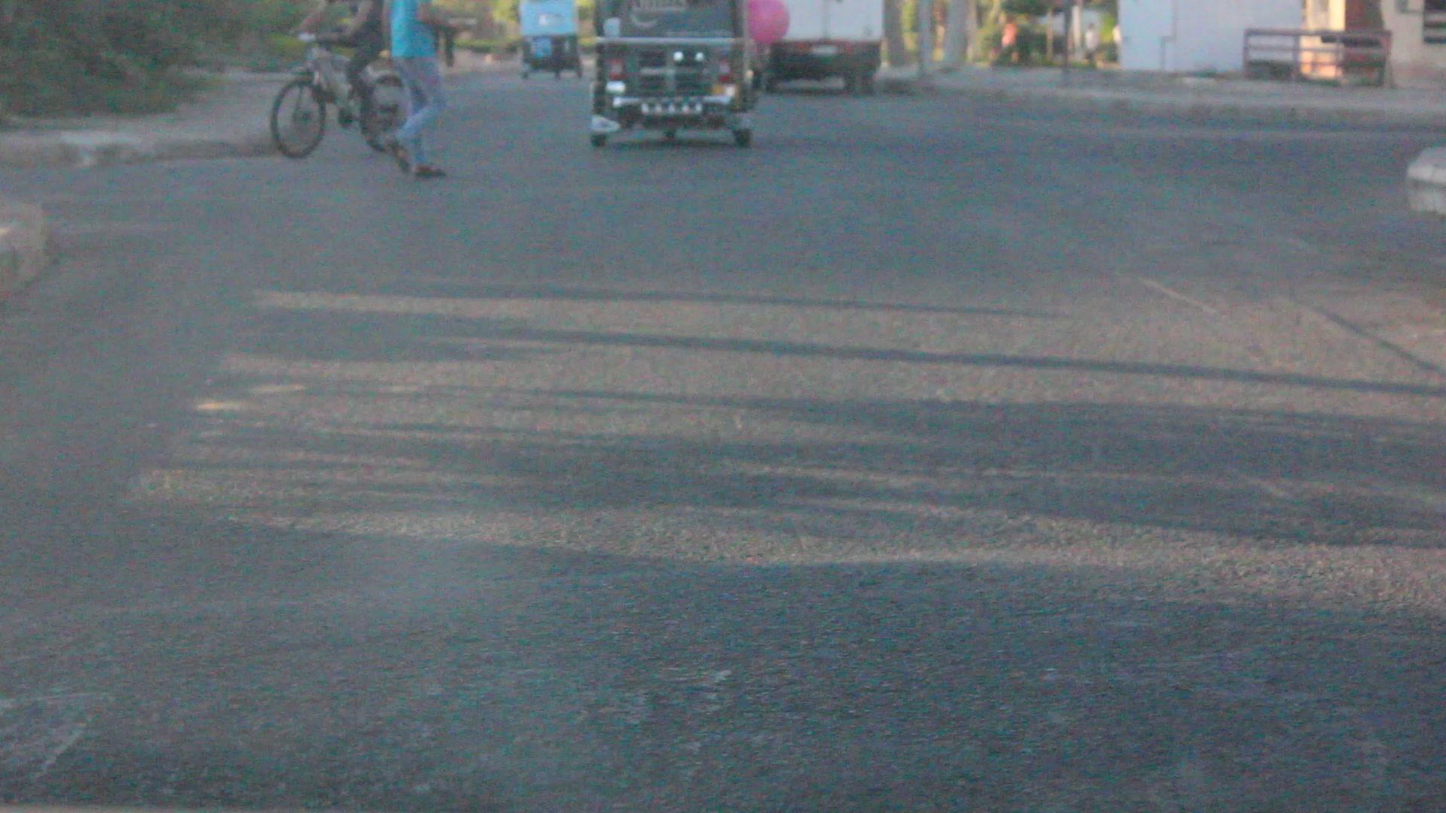Bump: (0, 548, 1445, 812)
